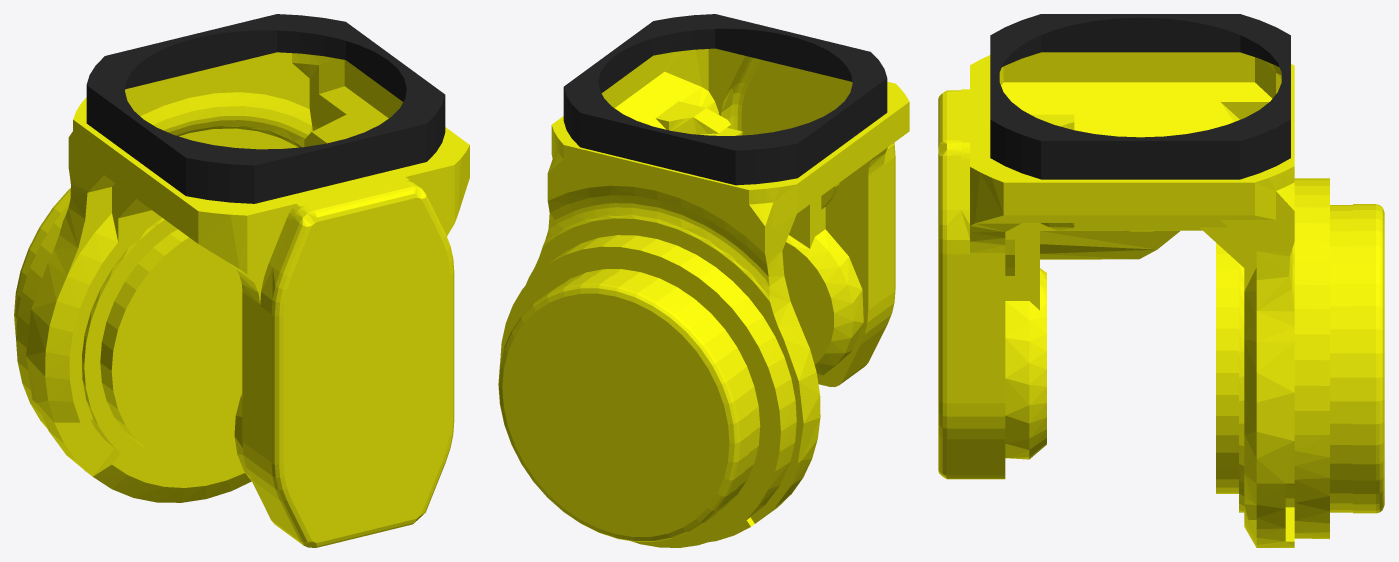
3 renders of one model, left to right at view 1: azimuth 30°, elevation 25°; view 2: azimuth 150°, elevation 25°; view 3: azimuth 270°, elevation 25°, orthographic. The views are drawn at different scales.
Parts seen in each view (by area): view 1: node; view 2: node; view 3: node.
Boxes of the visible parts, x1,y1,x2,y2 form: node: [14, 14, 469, 547]; node: [498, 14, 909, 547]; node: [938, 14, 1384, 547].
Size of the model in its own units: 214 by 282 by 252.
